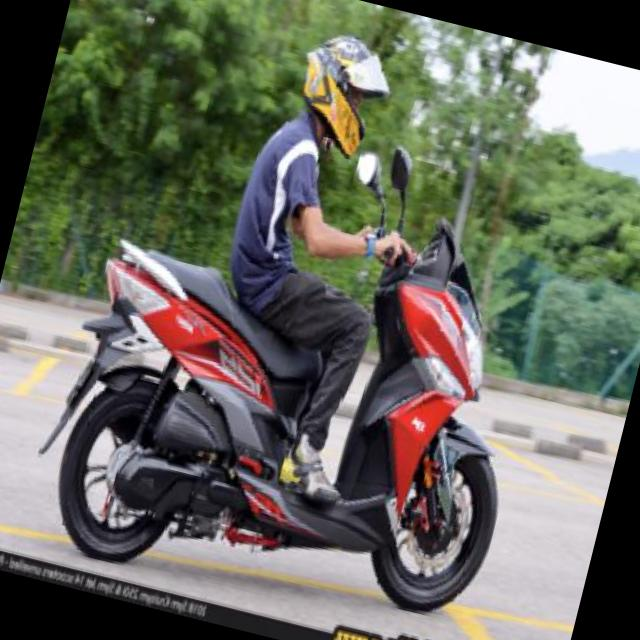With Helmet: (280, 20, 404, 167)
